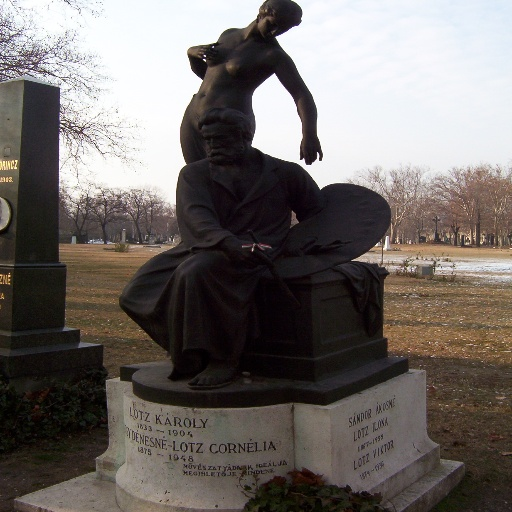hand: (224, 240, 277, 272), (300, 137, 324, 165), (190, 43, 221, 61)
